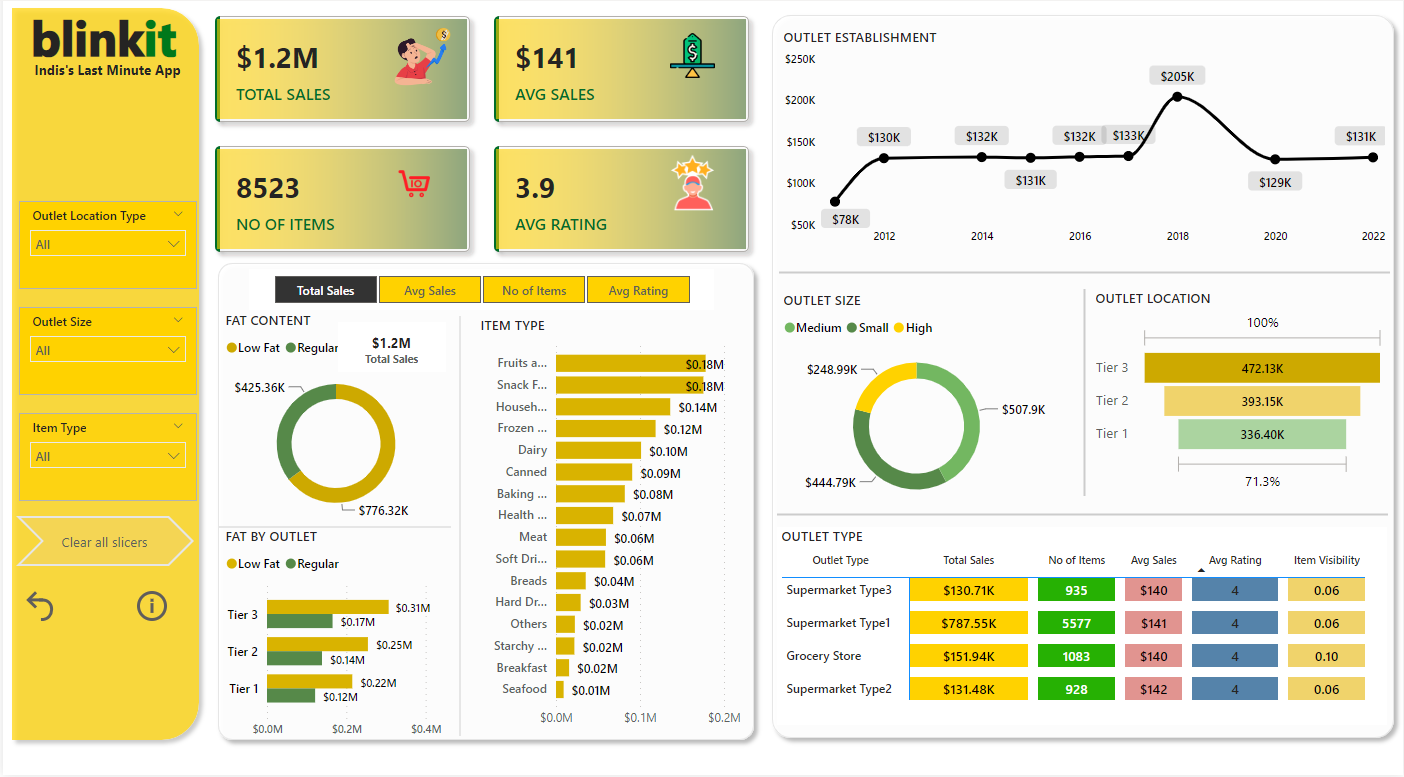

What the dashboard file says about the page in this screenshot:
{"tool":"powerbi","page":{"name":"Page 1","canvas":[1400,800],"ordinal":0},"visuals":[{"type":"shape","box":[0,24,204.8,750.2],"z":0},{"type":"textbox","box":[17,24,168.1,76.3],"z":1000},{"type":"textbox","box":[26.8,80.5,204.8,38.1],"z":2000},{"type":"cardVisual","fields":{"Data":["BlinkIT Grocery Data.Total Sales","BlinkIT Grocery Data.Avg Sales","BlinkIT Grocery Data.No of Items","BlinkIT Grocery Data.Avg Rating"]},"box":[195,24,569.3,269.8],"z":3000},{"type":"image","box":[359.6,44,119.3,75.2],"z":4000},{"type":"image","box":[616.5,53.2,146.8,55],"z":5000},{"type":"image","box":[344,178,136,58],"z":6000},{"type":"image","box":[620.4,174.1,138.9,66.7],"z":7000},{"type":"shape","box":[205.5,278.9,554.1,495.4],"z":8000},{"type":"donutChart","title":"FAT CONTENT","fields":{"Y":["BlinkIT Grocery Data.Total Sales"],"Category":["BlinkIT Grocery Data.Item Fat Content"]},"box":[218.3,335.8,230,220],"z":9000},{"type":"slicer","fields":{"Values":["Metrics.Metrics"]},"box":[246.3,294.4,464.8,40.7],"z":10000},{"type":"cardVisual","fields":{"Data":["BlinkIT Grocery Data.Total Sales"]},"box":[330,342,118,60],"z":11000},{"type":"clusteredBarChart","title":"FAT BY OUTLET","fields":{"Y":["BlinkIT Grocery Data.Total Sales"],"Category":["BlinkIT Grocery Data.Outlet Location Type"],"Series":["BlinkIT Grocery Data.Item Fat Content"]},"box":[218.3,552.3,229.4,220.2],"z":12000},{"type":"shape","box":[214.7,532.1,233,40.4],"z":12001},{"type":"shape","box":[434.9,341.3,44,420.2],"z":12002},{"type":"barChart","title":"ITEM TYPE","fields":{"Category":["BlinkIT Grocery Data.Item Type"],"Y":["BlinkIT Grocery Data.Total Sales"]},"box":[473.4,341.3,269.7,420.2],"z":12003},{"type":"shape","box":[759.6,31.2,640.4,741.3],"z":12004},{"type":"lineChart","title":"OUTLET ESTABLISHMENT","fields":{"Category":["BlinkIT Grocery Data.Outlet Establishment Year"],"Y":["BlinkIT Grocery Data.Total Sales"]},"box":[776.1,53.2,611,225.7],"z":12005},{"type":"shape","box":[776.1,278.9,611,36.7],"z":12006},{"type":"donutChart","title":"OUTLET SIZE","fields":{"Y":["BlinkIT Grocery Data.Total Sales"],"Category":["BlinkIT Grocery Data.Outlet Size"]},"box":[776.1,315.6,275,225],"z":12007},{"type":"shape","box":[1055,313.8,53.2,207.3],"z":12008},{"type":"funnel","title":"OUTLET LOCATION","fields":{"Category":["BlinkIT Grocery Data.Outlet Location Type"],"Y":["Sum(BlinkIT Grocery Data.Sales)"]},"box":[1088.1,313.8,299.1,207.3],"z":12009},{"type":"shape","box":[774.3,521.1,611,36.7],"z":12010},{"type":"pivotTable","title":"OUTLET TYPE","fields":{"Rows":["BlinkIT Grocery Data.Outlet Type"],"Values":["BlinkIT Grocery Data.Total Sales","BlinkIT Grocery Data.No of Items","BlinkIT Grocery Data.Avg Sales","BlinkIT Grocery Data.Avg Rating","Avg(BlinkIT Grocery Data.Item Visibility)"]},"box":[774,564,610,198],"z":12011},{"type":"slicer","fields":{"Values":["BlinkIT Grocery Data.Outlet Location Type"]},"box":[16,226,178,88],"z":12012},{"type":"slicer","fields":{"Values":["BlinkIT Grocery Data.Outlet Size"]},"box":[16,332,178,88],"z":12013},{"type":"slicer","fields":{"Values":["BlinkIT Grocery Data.Item Type"]},"box":[16,438,178,88],"z":12014},{"type":"actionButton","box":[13,541,178,50],"z":12015},{"type":"actionButton","box":[17,611,77,40],"z":12016},{"type":"actionButton","box":[129,611,56,40],"z":12017}]}

Visuals, with their boxes on the page's 1400x800 design canvas (x1, y1, x2, y2). These are canvas units, not pixel positions in the 1404x777 screenshot, which may show the page scaled, cropped or inside an application window:
shape: rect(0, 24, 205, 774)
textbox: rect(17, 24, 185, 100)
textbox: rect(27, 80, 232, 119)
cardVisual - BlinkIT Grocery Data.Total Sales x BlinkIT Grocery Data.Avg Sales: rect(195, 24, 764, 294)
image: rect(360, 44, 479, 119)
image: rect(616, 53, 763, 108)
image: rect(344, 178, 480, 236)
image: rect(620, 174, 759, 241)
shape: rect(206, 279, 760, 774)
"FAT CONTENT" donutChart: rect(218, 336, 448, 556)
slicer - Metrics.Metrics: rect(246, 294, 711, 335)
cardVisual - BlinkIT Grocery Data.Total Sales: rect(330, 342, 448, 402)
"FAT BY OUTLET" clusteredBarChart: rect(218, 552, 448, 772)
shape: rect(215, 532, 448, 572)
shape: rect(435, 341, 479, 762)
"ITEM TYPE" barChart: rect(473, 341, 743, 762)
shape: rect(760, 31, 1400, 772)
"OUTLET ESTABLISHMENT" lineChart: rect(776, 53, 1387, 279)
shape: rect(776, 279, 1387, 316)
"OUTLET SIZE" donutChart: rect(776, 316, 1051, 541)
shape: rect(1055, 314, 1108, 521)
"OUTLET LOCATION" funnel: rect(1088, 314, 1387, 521)
shape: rect(774, 521, 1385, 558)
"OUTLET TYPE" pivotTable: rect(774, 564, 1384, 762)
slicer - BlinkIT Grocery Data.Outlet Location Type: rect(16, 226, 194, 314)
slicer - BlinkIT Grocery Data.Outlet Size: rect(16, 332, 194, 420)
slicer - BlinkIT Grocery Data.Item Type: rect(16, 438, 194, 526)
actionButton: rect(13, 541, 191, 591)
actionButton: rect(17, 611, 94, 651)
actionButton: rect(129, 611, 185, 651)
